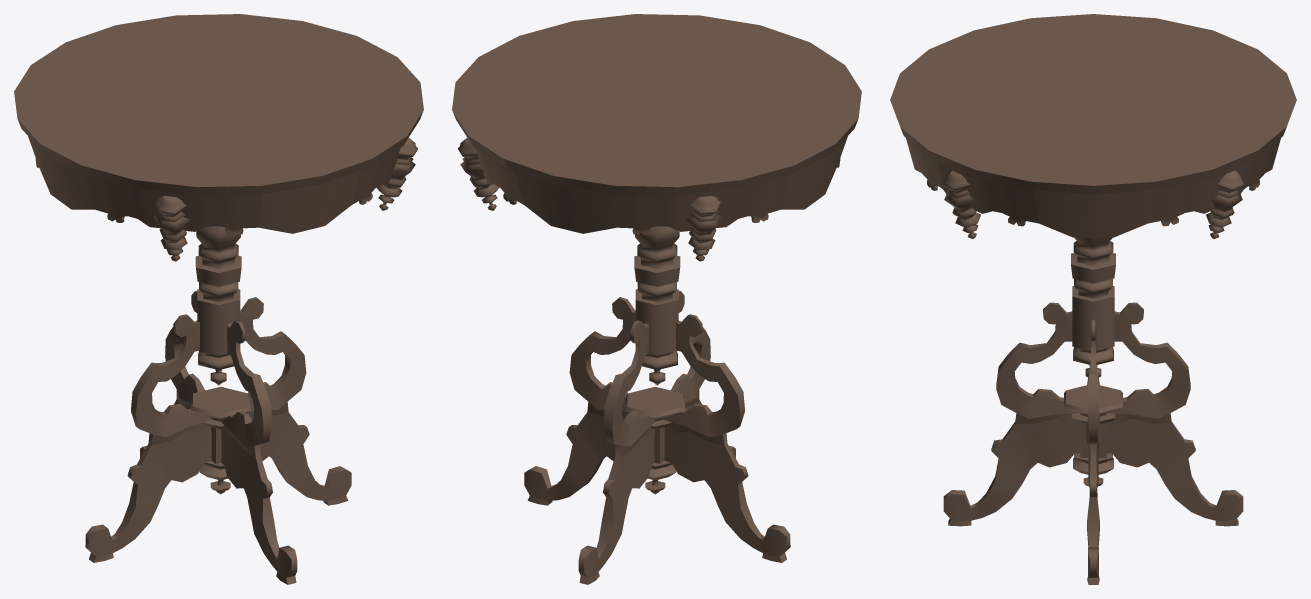
Rendered from Parlor Table.fbx.
3 renders of one model, left to right at view 1: azimuth 30°, elevation 25°; view 2: azimuth 150°, elevation 25°; view 3: azimuth 270°, elevation 25°, orthographic.
Parts seen in each view (by area): view 1: Parlor_Table_01; view 2: Parlor_Table_01; view 3: Parlor_Table_01.
Part boxes in pixels (x1,y1,x2,y2): Parlor_Table_01: (14,14,423,584); Parlor_Table_01: (452,14,861,584); Parlor_Table_01: (890,14,1296,584).
Size of the model in its own units: 54.28 by 62.4 by 54.28.
